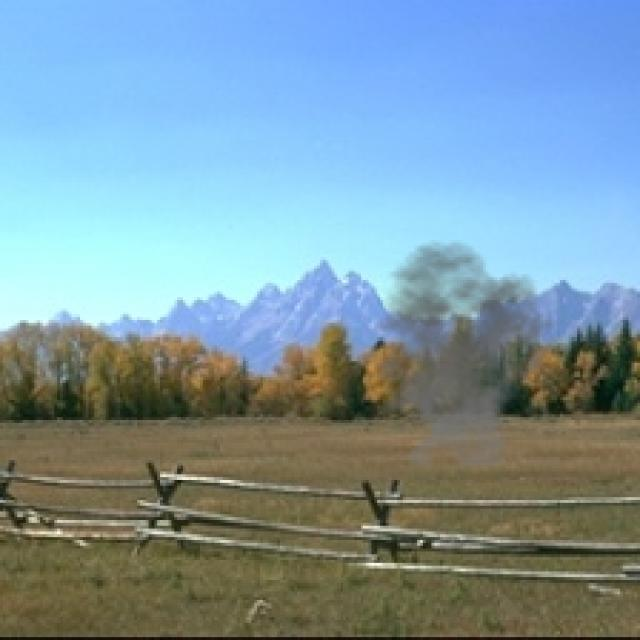smoke: (352, 240, 557, 466)
